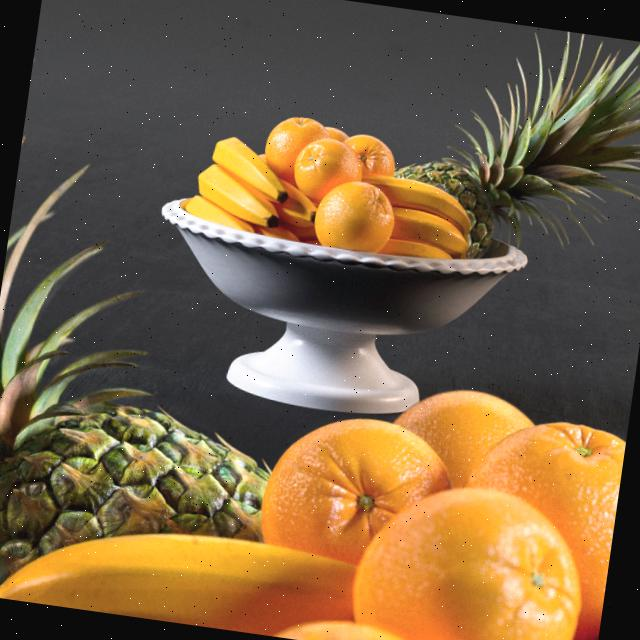orange: (250, 401, 458, 599), (346, 473, 590, 640), (451, 410, 627, 640), (385, 380, 534, 499), (310, 178, 398, 258), (288, 137, 364, 210), (259, 116, 330, 190), (339, 133, 398, 182)
